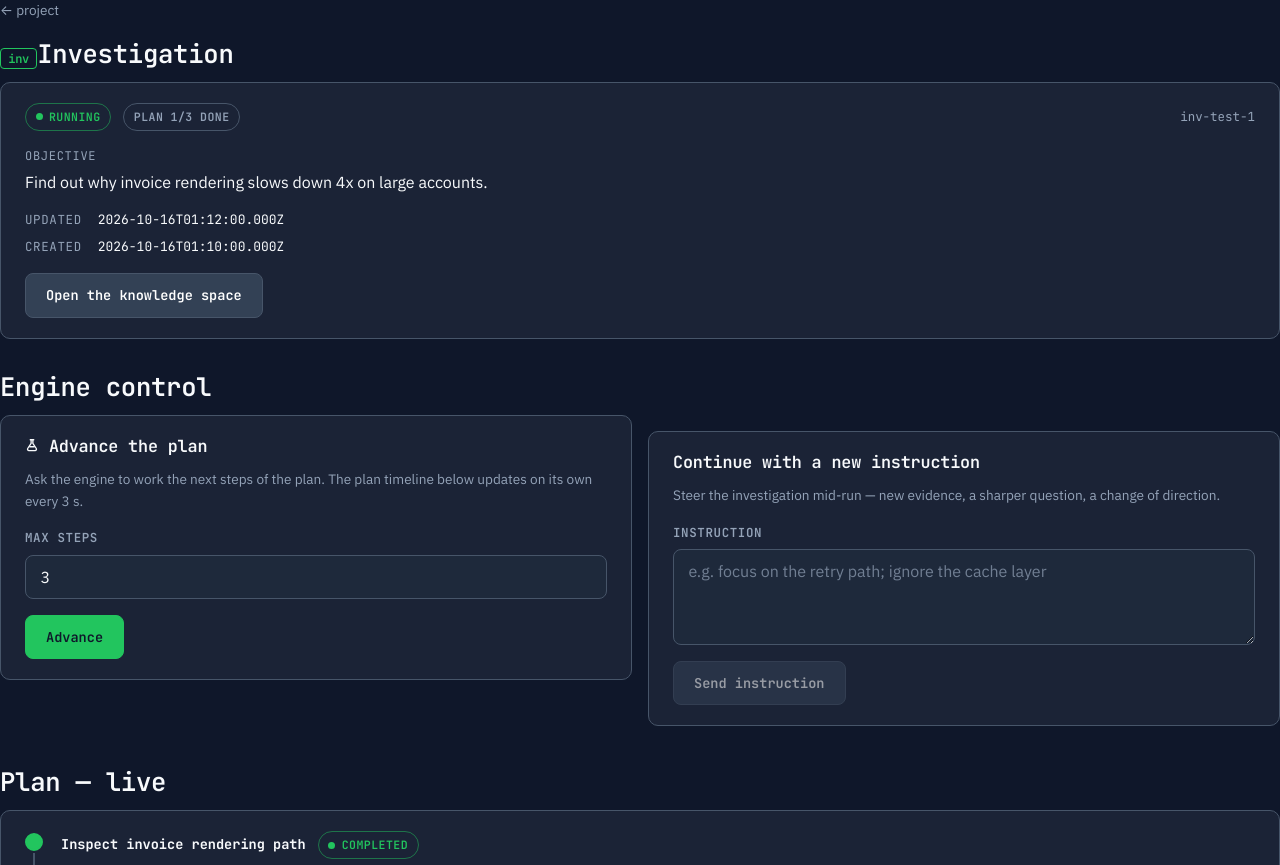
Scenario: InvestigationPage › shows an honest engine-offline state when /advance is missing (404)
Expected: the text "why invoice rendering slows down" is shown, top-left (25, 172), bottom-right (488, 192)
Click the button "Advance" at (75, 637), box top-left (25, 615), bottom-right (124, 659)
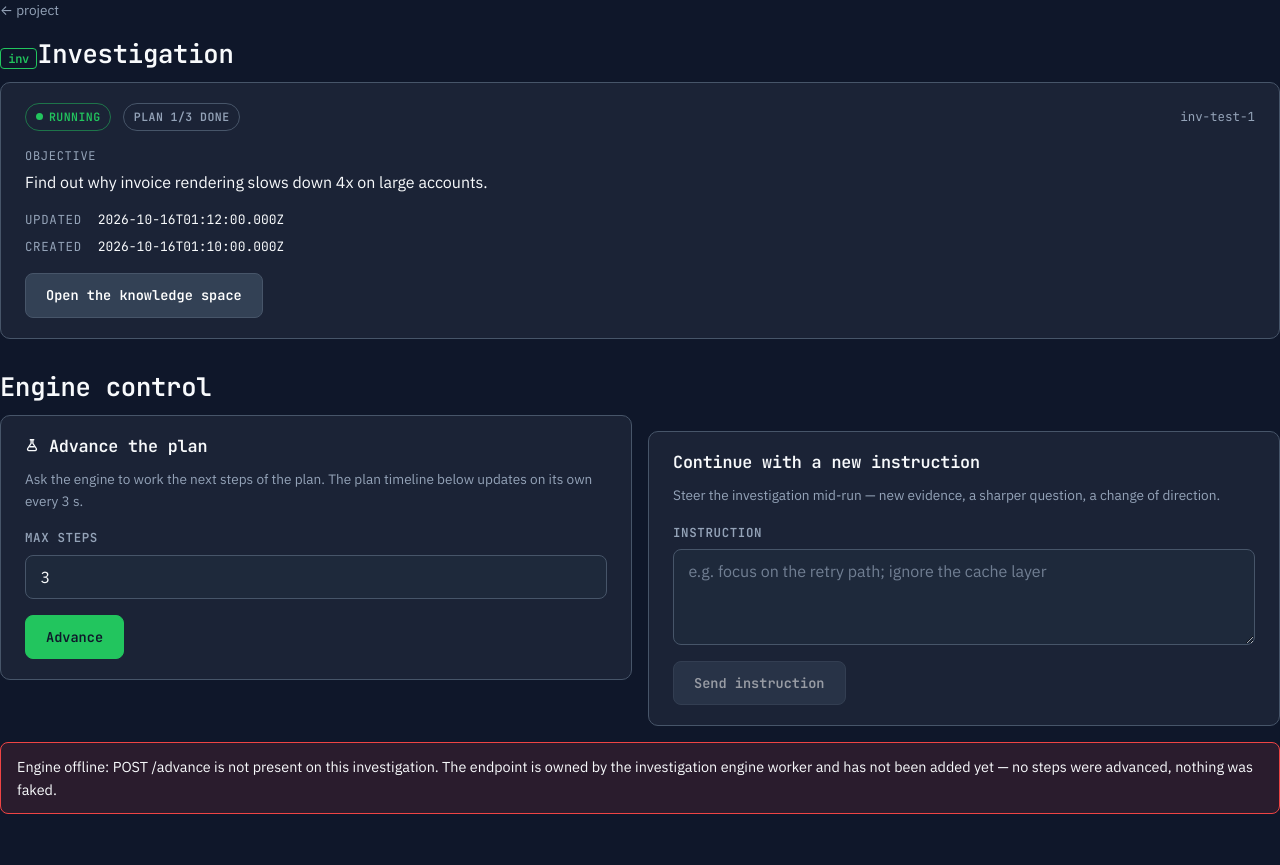
Expected: the text "no steps were advanced" is shown, top-left (17, 757), bottom-right (1253, 799)
